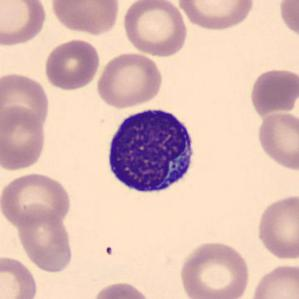Lymphocyte: (100, 101, 201, 201)
RBC: (176, 238, 251, 299), (0, 170, 73, 229), (94, 50, 164, 110), (15, 208, 76, 275), (120, 0, 189, 57), (0, 104, 48, 172), (43, 37, 102, 91), (0, 70, 51, 132), (254, 192, 298, 262), (248, 65, 298, 119), (255, 110, 298, 172), (48, 0, 121, 36), (176, 0, 257, 32), (0, 0, 48, 49), (247, 261, 298, 299), (0, 253, 39, 299), (90, 280, 152, 299), (277, 0, 298, 42)
